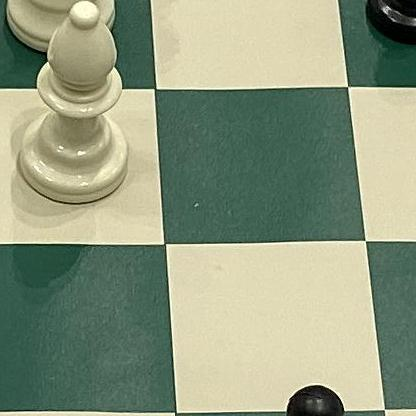black-pawn: (238, 364, 371, 416)
white-bishop: (0, 0, 152, 225)
white-rook: (0, 0, 132, 62)
